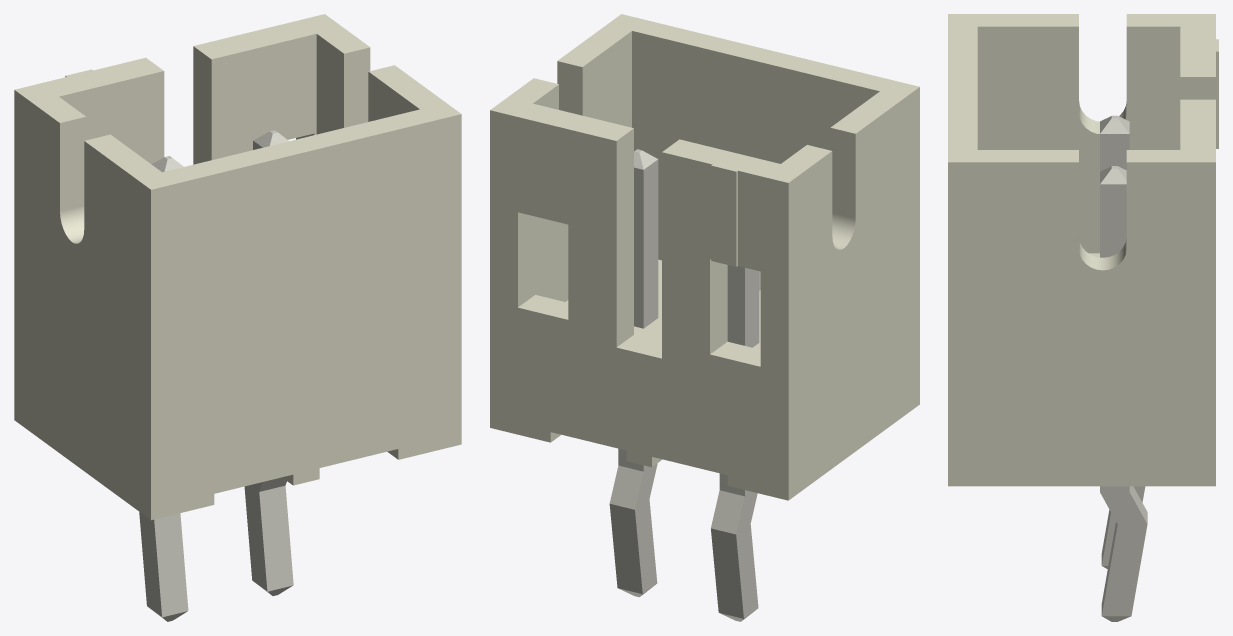
The model's file is JST_PH_B2B-PH-K_1x02_P2.00mm_Vertical.glb.
The picture shows the model from 3 angles, left to right: view 1: azimuth 30°, elevation 25°; view 2: azimuth 150°, elevation 25°; view 3: azimuth 270°, elevation 25°; orthographic projection. The views are drawn at different scales.
Visible parts, largest first — view 1: =>[0:1:1:3]; view 2: =>[0:1:1:3]; view 3: =>[0:1:1:3].
Boxes of the visible parts, x1=… form: =>[0:1:1:3]: x1=14, y1=14, x2=461, y2=621; =>[0:1:1:3]: x1=490, y1=14, x2=919, y2=621; =>[0:1:1:3]: x1=948, y1=14, x2=1218, y2=621.
Size of the model in its own units: 0.0059 by 0.0094 by 0.00455.
